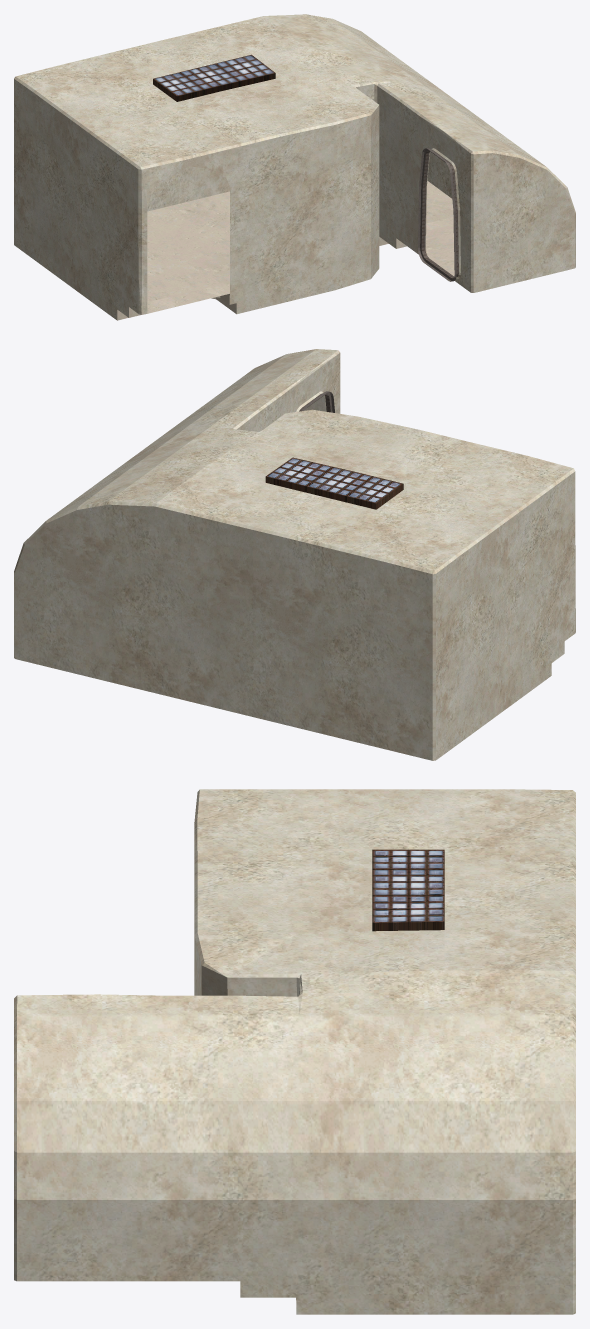
The model's file is thm_tato_house_sml_s01_fp1_r10_livingroom1_mesh_r3.fbx.
3 views of the same model, one above another, from view 1: azimuth 30°, elevation 25°; view 2: azimuth 150°, elevation 25°; view 3: azimuth 270°, elevation 25° (orthographic). The views are drawn at different scales.
Parts seen in each view (by area): view 1: mesh_node; view 2: mesh_node; view 3: mesh_node.
Part boxes in pixels (<box>): mesh_node: <box>14,14,575,320</box>; mesh_node: <box>14,349,575,760</box>; mesh_node: <box>14,789,575,1314</box>.
Size of the model in its own units: 10.74 by 4.76 by 9.3.
